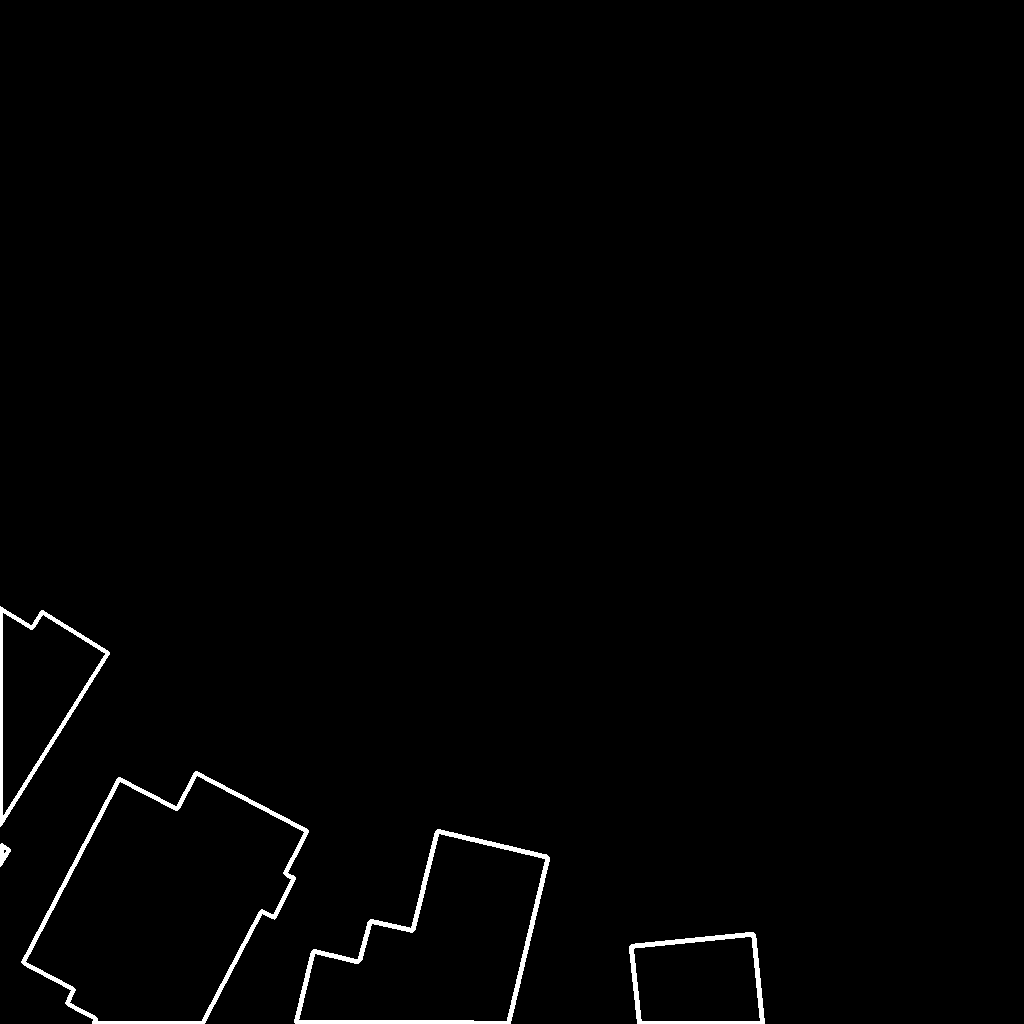building: (23, 773, 308, 1024), (296, 831, 549, 1024), (0, 608, 109, 866), (631, 934, 764, 1024)
